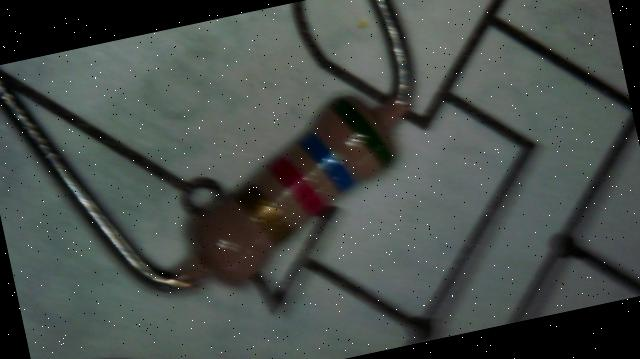blue: (298, 124, 358, 199)
gold: (234, 177, 296, 249)
green: (328, 90, 394, 175)
red: (266, 147, 331, 224)
resistor: (153, 65, 440, 327)
